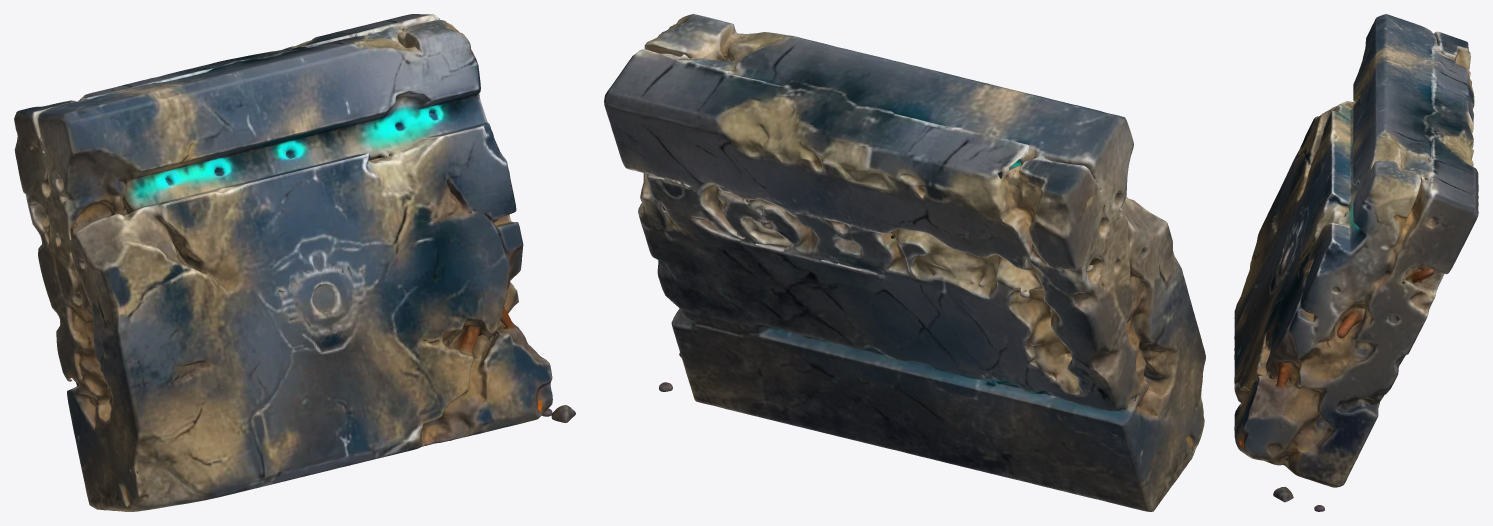
3 views of the same model, side by side, from view 1: azimuth 30°, elevation 25°; view 2: azimuth 150°, elevation 25°; view 3: azimuth 270°, elevation 25° (orthographic). The views are drawn at different scales.
Visible parts, largest first — view 1: world; view 2: world; view 3: world.
Part boxes in pixels (<box>): world: <box>14,14,575,511</box>; world: <box>604,14,1205,511</box>; world: <box>1234,14,1478,511</box>.
Size of the model in its own units: 0.97 by 0.7753 by 0.541.
1 material, 1 textured.
